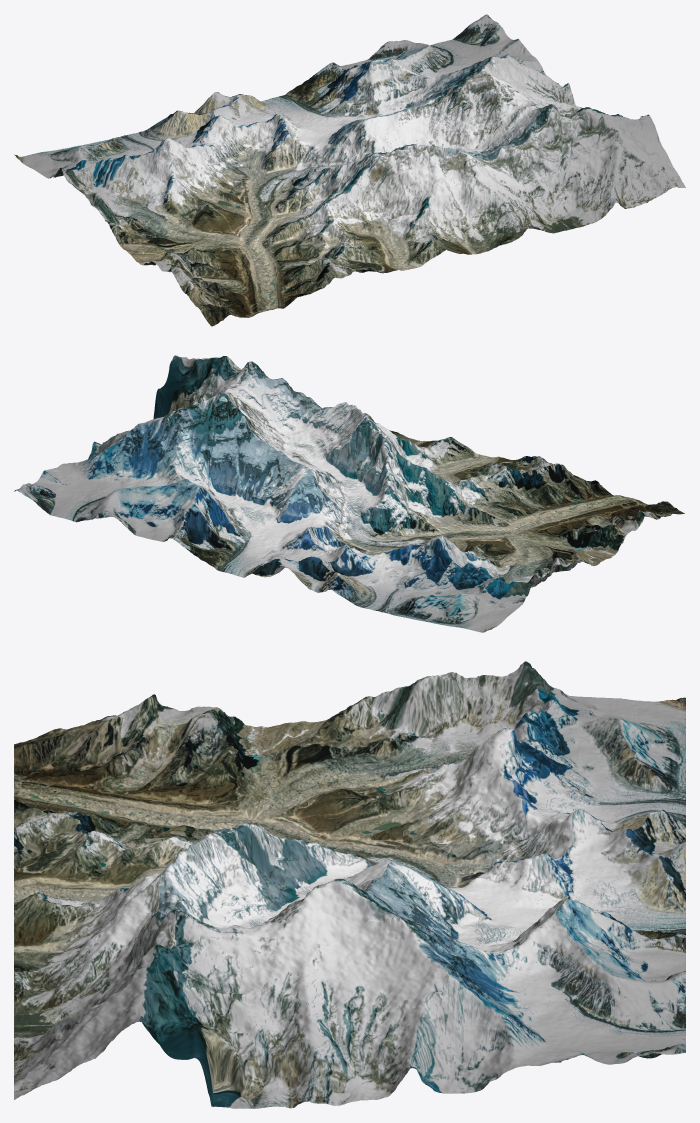
File: everest-light.glb
The picture shows the model from 3 angles, top to bottom: view 1: azimuth 30°, elevation 25°; view 2: azimuth 150°, elevation 25°; view 3: azimuth 270°, elevation 25°; orthographic projection. The views are drawn at different scales.
Visible parts, largest first — view 1: TerrainNode_0; view 2: TerrainNode_0; view 3: TerrainNode_0.
Part boxes in pixels (box(x1,y1,x2,y2)): TerrainNode_0: box(14, 14, 685, 326); TerrainNode_0: box(14, 355, 684, 632); TerrainNode_0: box(14, 661, 685, 1108).
Size of the model in its own units: 19358 by 3929 by 13937.
1 material, 1 textured.
